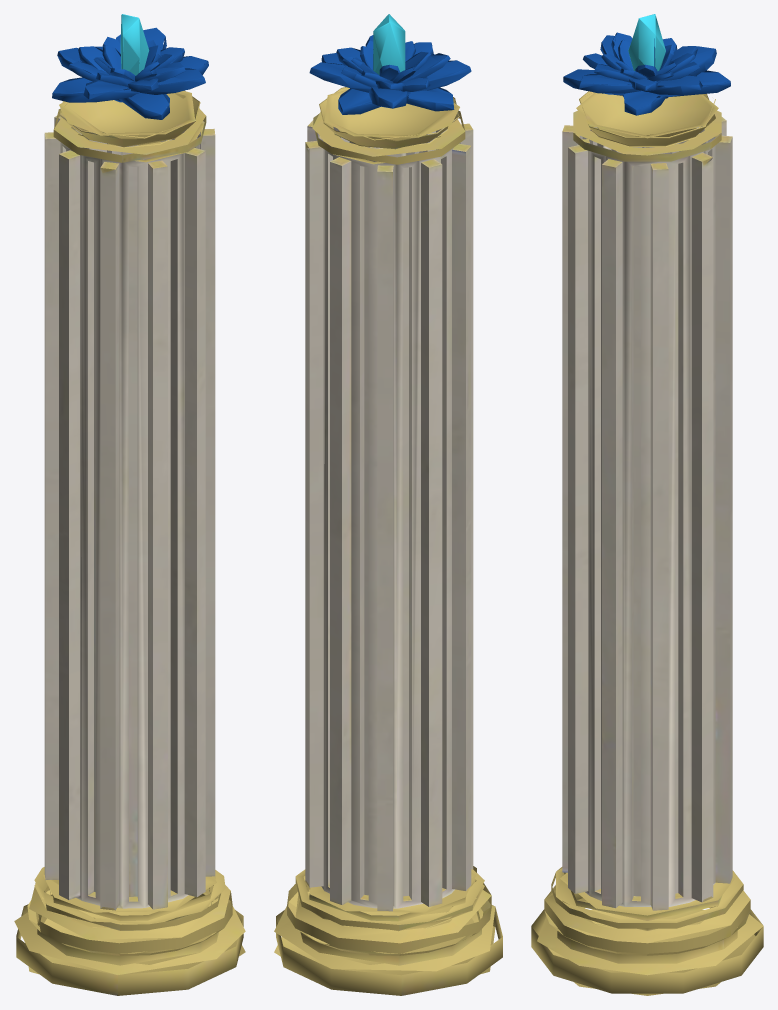
The model's file is archwayPillarRight_lowPoly.glb.
The picture shows the model from 3 angles, left to right: view 1: azimuth 30°, elevation 25°; view 2: azimuth 150°, elevation 25°; view 3: azimuth 270°, elevation 25°; orthographic projection.
Parts seen in each view (by area): view 1: archway_polySurface37.001, archway_polySurface37.004, archway_polySurface37; view 2: archway_polySurface37.001, archway_polySurface37.004, archway_polySurface37; view 3: archway_polySurface37.001, archway_polySurface37.004, archway_polySurface37.
Part boxes in pixels (<box>): archway_polySurface37.001: <box>14,90,245,995</box>; archway_polySurface37.004: <box>52,27,208,119</box>; archway_polySurface37: <box>120,14,149,75</box>; archway_polySurface37.001: <box>274,87,502,995</box>; archway_polySurface37.004: <box>309,35,471,114</box>; archway_polySurface37: <box>373,14,405,74</box>; archway_polySurface37.001: <box>531,91,763,995</box>; archway_polySurface37.004: <box>563,32,730,115</box>; archway_polySurface37: <box>628,14,665,71</box>.
Bounding box in the file's own units: 0.3006 × 1.33 × 0.3006.
3 materials, 1 textured.
